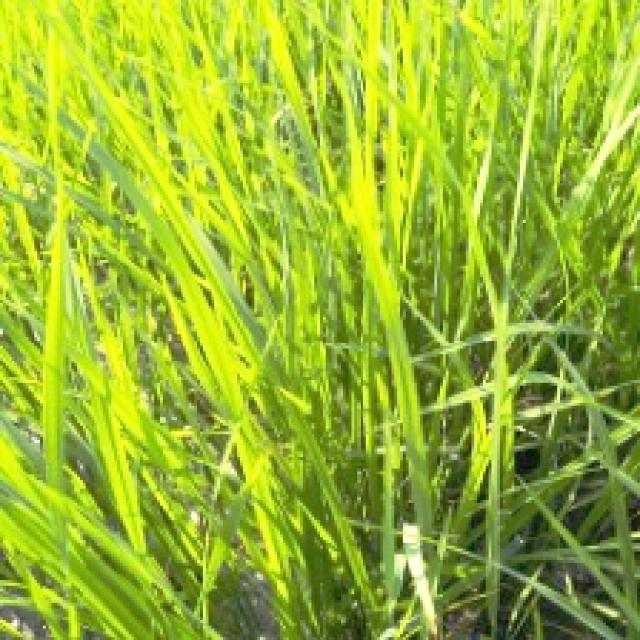health: (0, 0, 620, 624)
